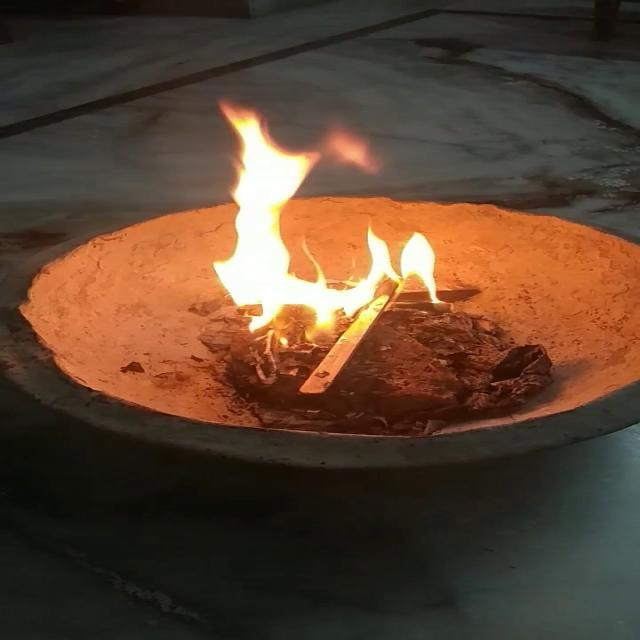fire: (212, 108, 449, 326)
